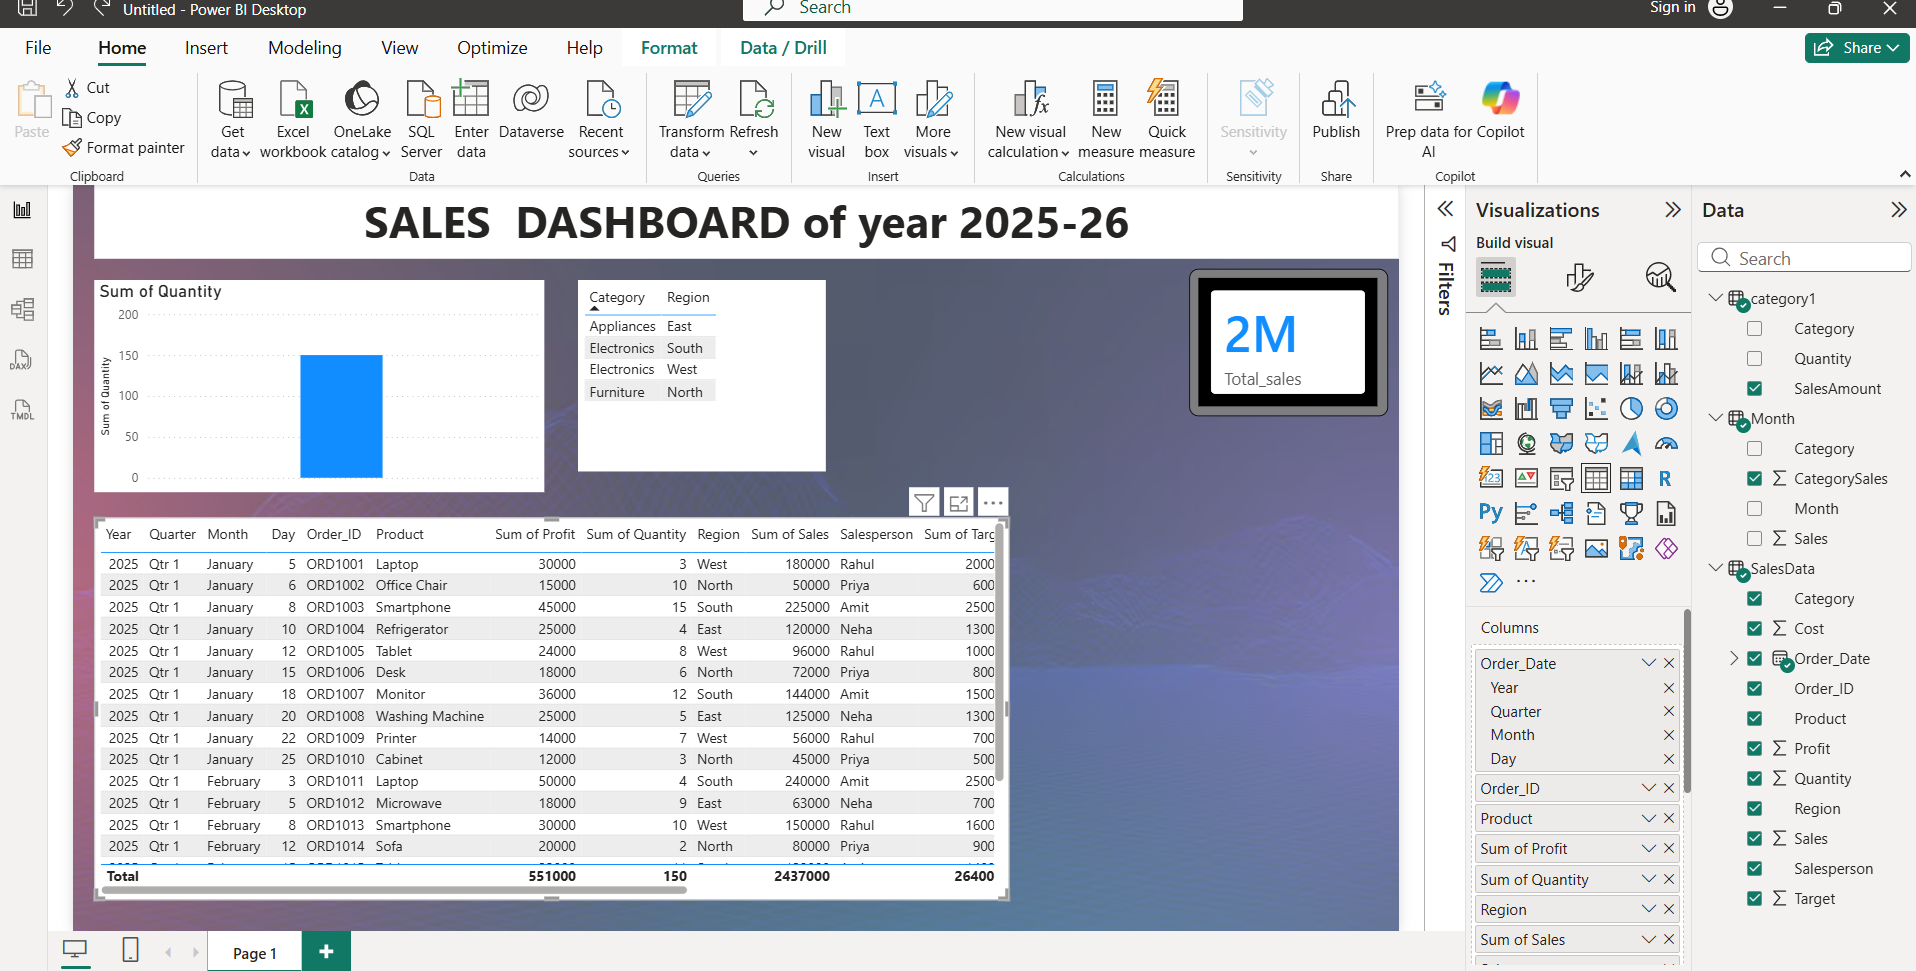

What the dashboard file says about the page in this screenshot:
{"tool":"powerbi","page":{"name":"Page 1","canvas":[1280,720],"ordinal":0},"visuals":[{"type":"textbox","box":[20.8,0,1259.5,70.9],"z":0},{"type":"cardVisual","fields":{"Data":["Sum(SalesData.Sales)","Sum(SalesData.Sales)"]},"box":[1077.4,80.8,183.4,138.7],"z":1000},{"type":"clusteredColumnChart","fields":{"Y":["Sum(SalesData.Quantity)"]},"box":[20.5,91.7,437.9,255.8],"z":2000},{"type":"tableEx","fields":{"Values":["SalesData.Order_Date.Variation.Date Hierarchy.Year","SalesData.Order_Date.Variation.Date Hierarchy.Quarter","SalesData.Order_Date.Variation.Date Hierarchy.Month","SalesData.Order_Date.Variation.Date Hierarchy.Day","SalesData.Order_ID","SalesData.Product","Sum(SalesData.Profit)","Sum(SalesData.Quantity)","SalesData.Region","Sum(SalesData.Sales)","SalesData.Salesperson","Sum(SalesData.Target)"]},"box":[0,359.5,824,335.4],"z":3000},{"type":"lineChart","fields":{"Y":["Sum(Month.CategorySales)","Sum(Month.Sales)","Sum(sales2.SalesAmount)","Sum(SalesData.Cost)","Sum(SalesData.Profit)","Sum(SalesData.Sales)"],"Category":["Month.Month"]},"box":[475.3,90.5,348.7,244.9],"z":4000},{"type":"pieChart","fields":{"Category":["sales2.Category"],"Y":["Sum(sales2.SalesAmount)"]},"box":[860.2,463.3,409,231.6],"z":5000},{"type":"ribbonChart","fields":{"Y":["Sum(Month.CategorySales)"]},"box":[839.7,90.5,214.7,139.9],"z":6000},{"type":"ribbonChart","fields":{"Category":["Month.Month"],"Y":["Sum(Month.Sales)"]},"box":[851.7,253.4,374,191.8],"z":7000}]}

Visuals, with their boxes on the page's 1280x720 design canvas (x1, y1, x2, y2). These are canvas units, not pixel positions in the 1916x971 screenshot, which may show the page scaled, cropped or inside an application window:
textbox: box(21, 0, 1280, 71)
cardVisual - Sum(SalesData.Sales) x Sum(SalesData.Sales): box(1077, 81, 1261, 220)
clusteredColumnChart - Sum(SalesData.Quantity): box(20, 92, 458, 348)
tableEx - SalesData.Order_Date.Variation.Date Hierarchy.Year x SalesData.Order_Date.Variation.Date Hierarchy.Quarter: box(0, 360, 824, 695)
lineChart - Sum(Month.CategorySales) x Sum(Month.Sales): box(475, 90, 824, 335)
pieChart - sales2.Category x Sum(sales2.SalesAmount): box(860, 463, 1269, 695)
ribbonChart - Sum(Month.CategorySales): box(840, 90, 1054, 230)
ribbonChart - Month.Month x Sum(Month.Sales): box(852, 253, 1226, 445)
